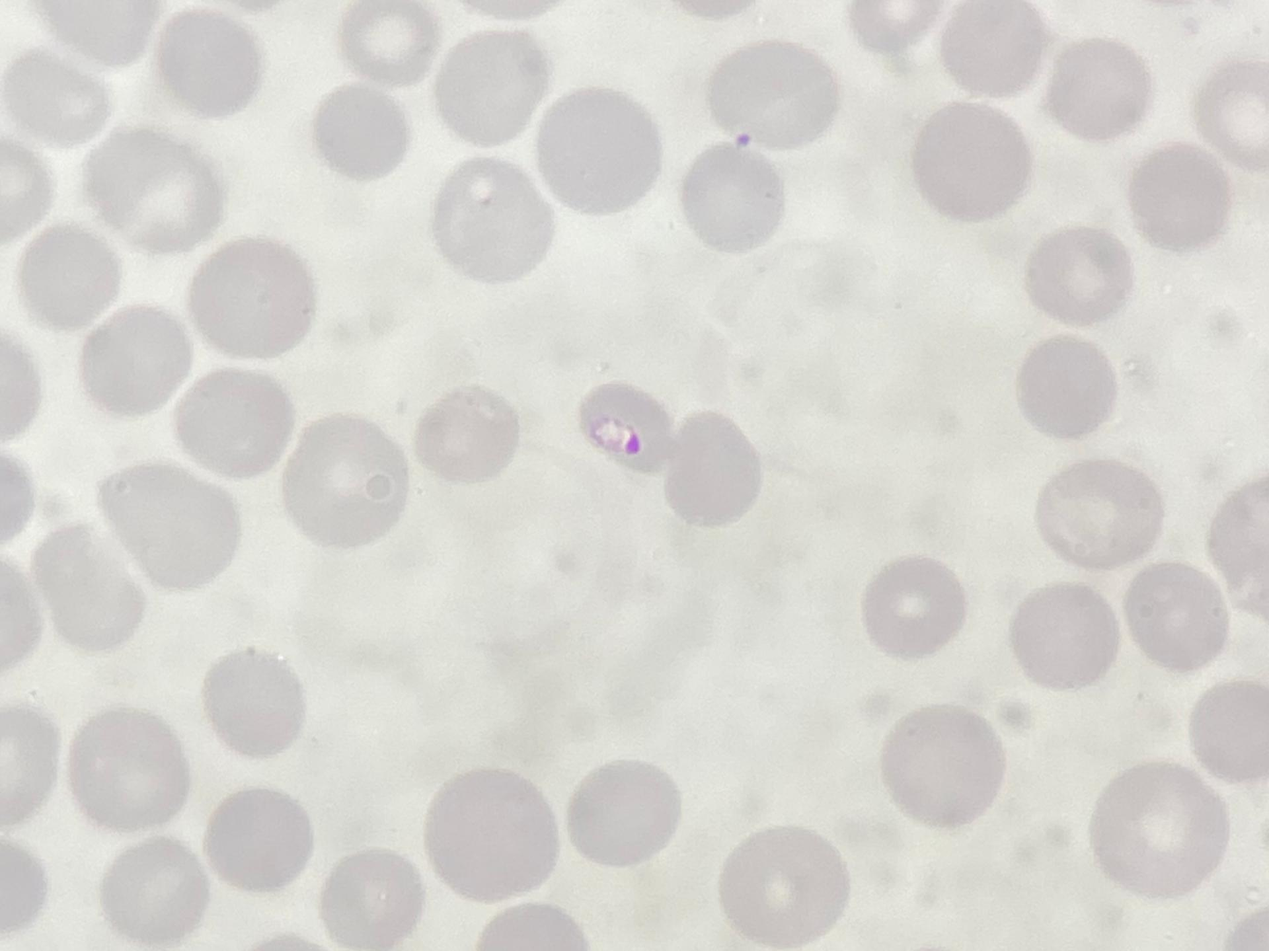Infected: (575, 381, 675, 475)
Uninfected: (98, 460, 246, 593), (422, 769, 557, 900), (84, 128, 223, 252), (1088, 767, 1223, 894), (531, 87, 661, 215), (280, 416, 408, 545), (905, 102, 1034, 227), (66, 706, 192, 833), (30, 521, 150, 650), (186, 237, 314, 357), (717, 827, 849, 943), (880, 704, 1005, 826), (430, 158, 554, 279), (707, 43, 840, 154), (431, 32, 552, 148), (1035, 457, 1161, 567), (173, 368, 297, 477), (79, 304, 196, 415), (566, 759, 679, 867), (202, 786, 315, 893), (153, 9, 264, 116), (1121, 561, 1227, 671), (200, 650, 306, 758), (17, 221, 122, 330), (679, 146, 784, 254), (862, 553, 970, 658), (1009, 583, 1118, 687), (660, 414, 759, 527), (100, 843, 210, 944), (1126, 144, 1229, 248), (1017, 334, 1122, 436), (1044, 38, 1150, 137), (412, 385, 519, 483), (936, 1, 1046, 96), (319, 850, 424, 947), (1024, 227, 1130, 323), (5, 47, 106, 146), (310, 84, 413, 181), (1188, 676, 1267, 782), (338, 1, 440, 81), (35, 1, 157, 67), (1191, 60, 1267, 165), (2, 142, 53, 248)
